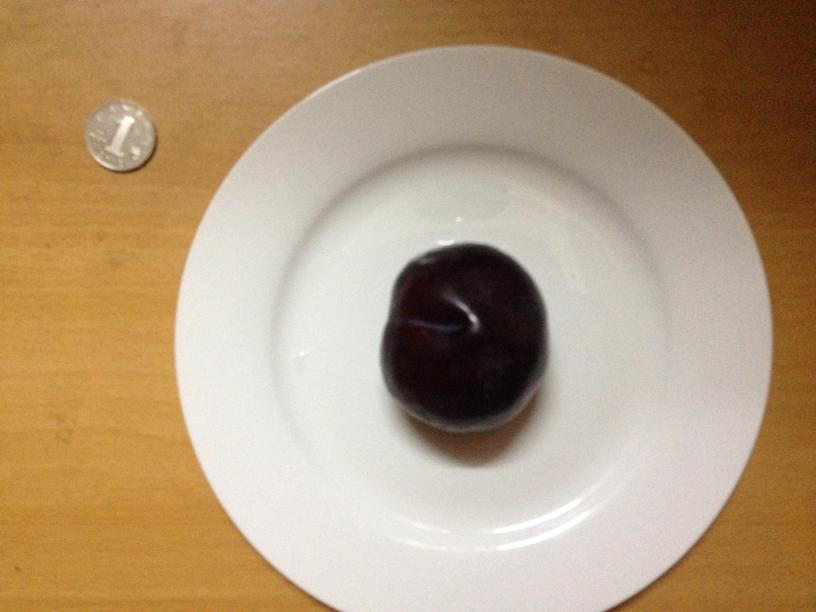coin: (81, 101, 159, 174)
plum: (387, 247, 548, 432)
